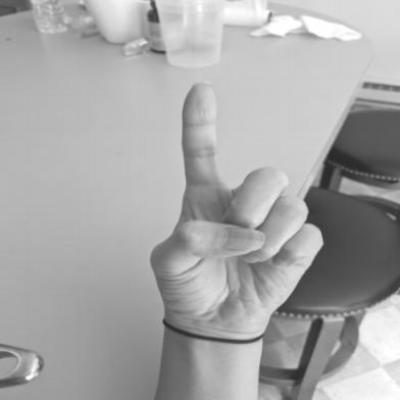hand: (139, 75, 329, 338)
